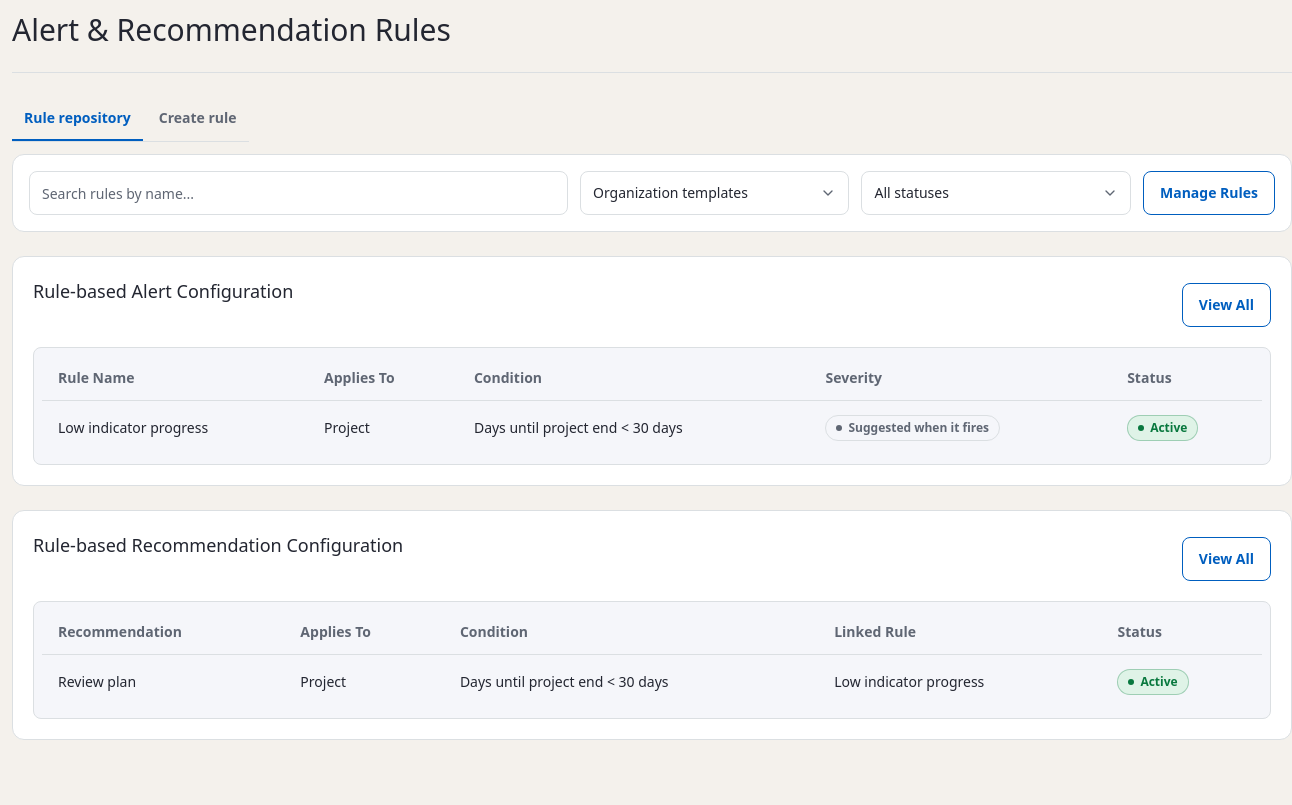
Test: RulesBoard › opens the builder in the Create rule tab rather than a side panel
Expected: the tab "Rule repository" is shown, [12,97,143,141]
Radix activates a tab on mouse down, not on a synthetic click.
Press the mouse on the tab "Create rule" at point(198, 119), box [147,97,249,141]
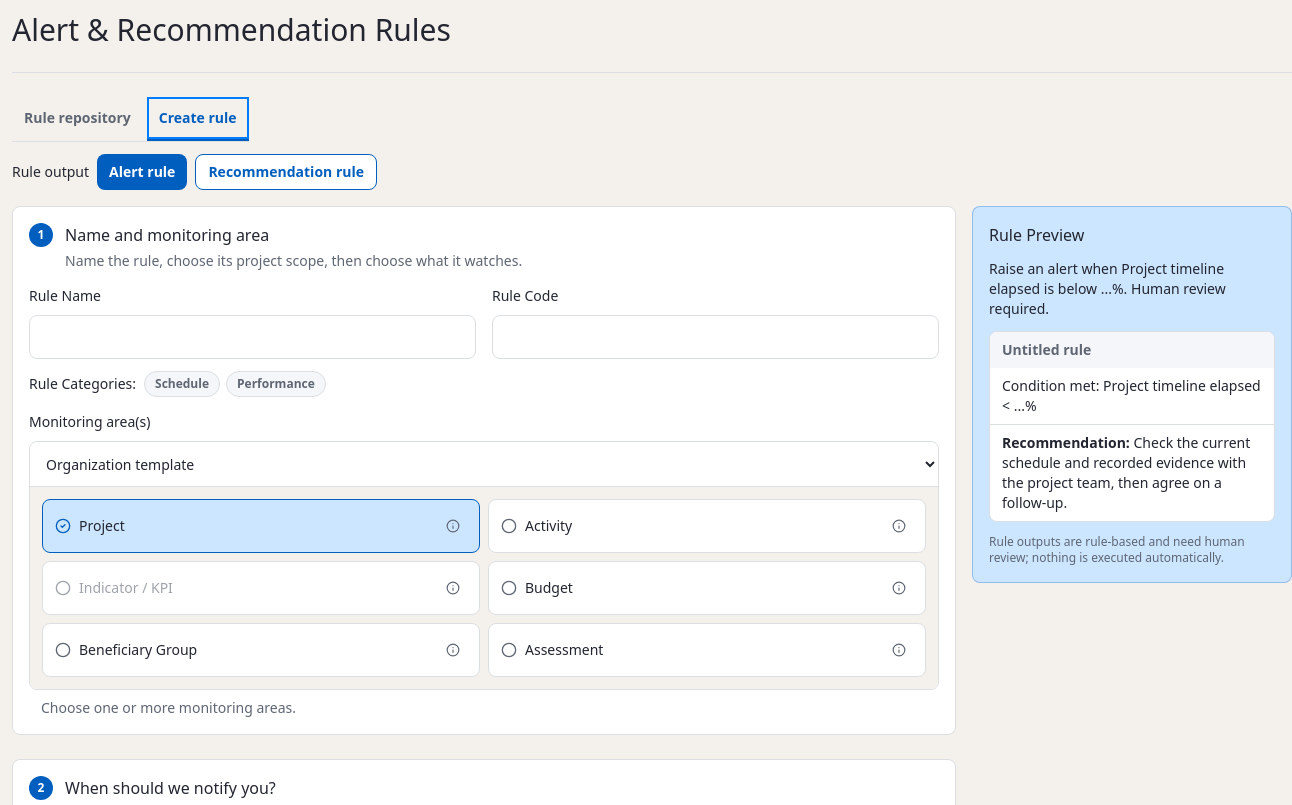
Expected: the field labelled "Rule Name" is shown, [29,315,476,359]
